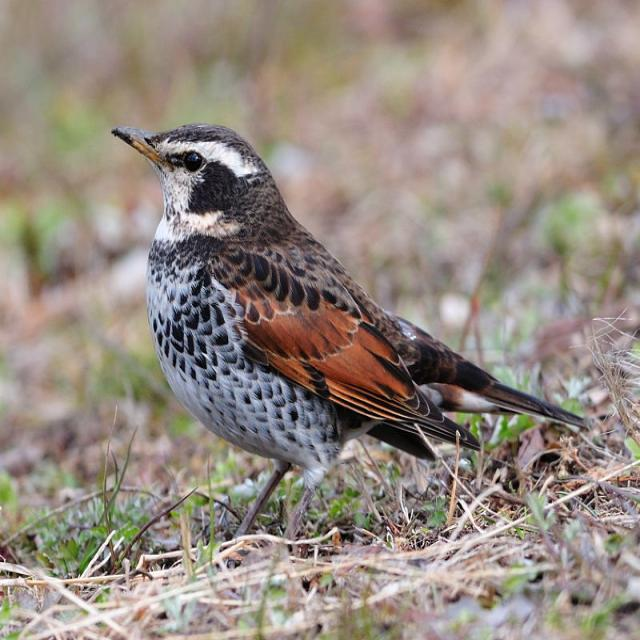bird: (105, 110, 599, 510)
